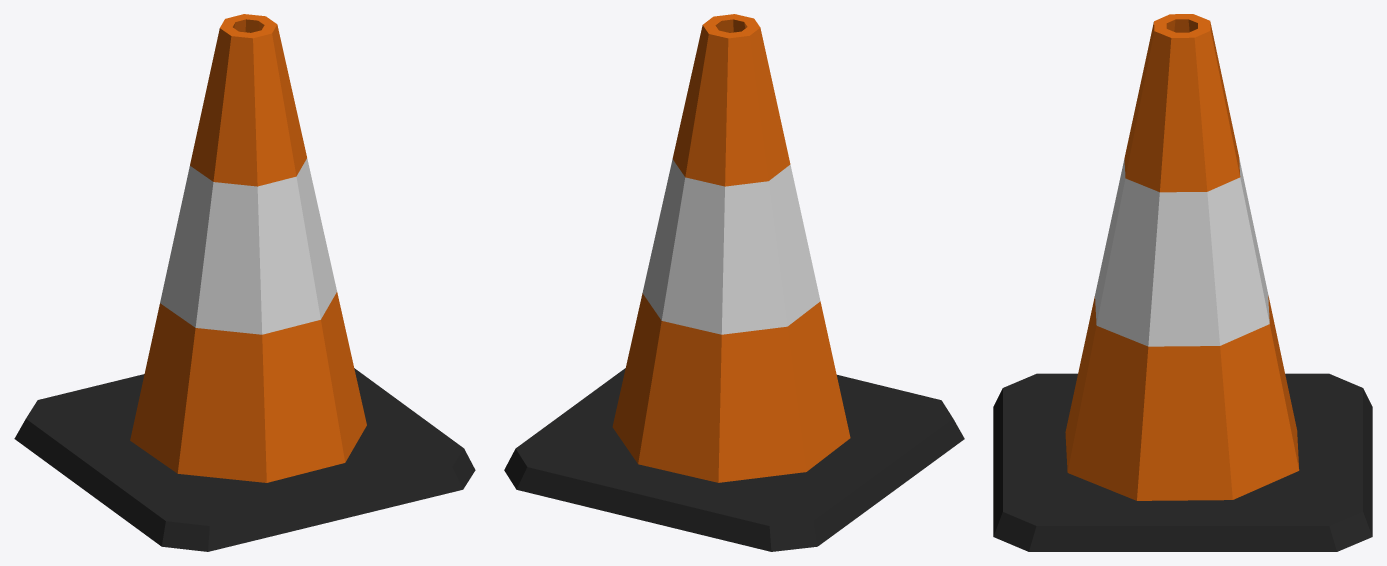
The model's file is TrafficCone.fbx.
3 views of the same model, side by side, from view 1: azimuth 30°, elevation 25°; view 2: azimuth 150°, elevation 25°; view 3: azimuth 270°, elevation 25° (orthographic). The views are drawn at different scales.
Parts seen in each view (by area): view 1: TrafficCone; view 2: TrafficCone; view 3: TrafficCone.
Part boxes in pixels (box(x1,y1,x2,y2)): TrafficCone: box(14, 14, 475, 551); TrafficCone: box(504, 14, 964, 551); TrafficCone: box(993, 14, 1372, 551).
Size of the model in its own units: 40.8 by 53.14 by 40.8.
